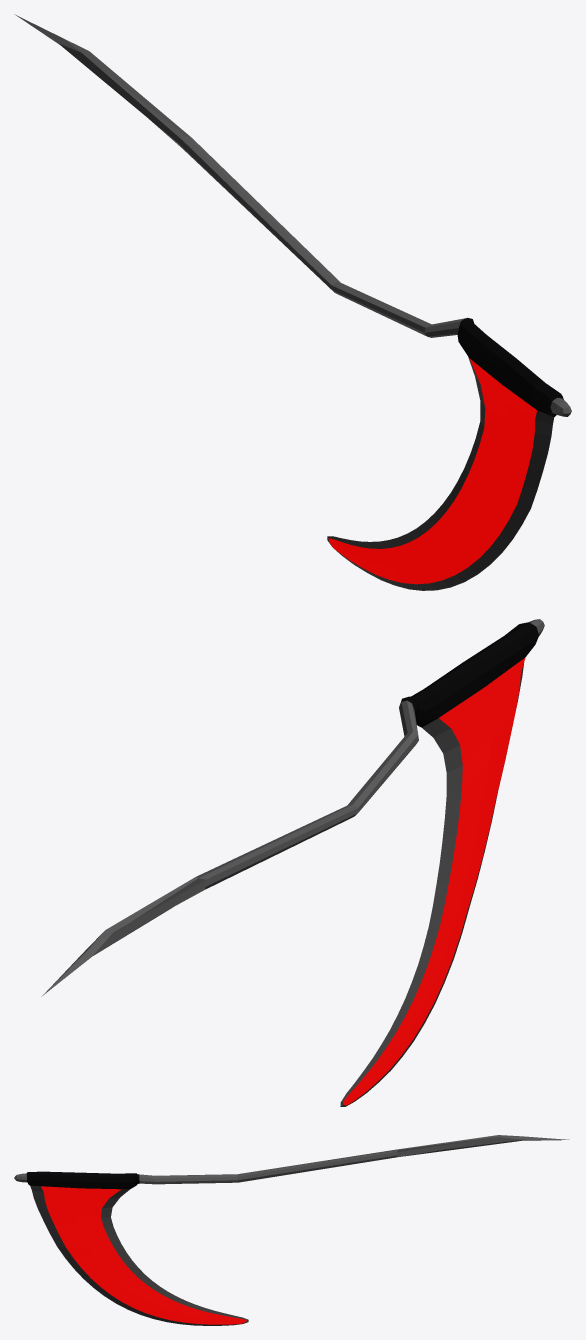
File: sickle.fbx
The picture shows the model from 3 angles, top to bottom: view 1: azimuth 30°, elevation 25°; view 2: azimuth 150°, elevation 25°; view 3: azimuth 270°, elevation 25°; orthographic projection. The views are drawn at different scales.
Parts seen in each view (by area): view 1: 立方体.001; view 2: 立方体.001; view 3: 立方体.001.
Boxes of the visible parts, x1,y1,x2,y2 form: 立方体.001: (14,14,571,590); 立方体.001: (41,619,544,1106); 立方体.001: (14,1135,569,1325).
Size of the model in its own units: 42.57 by 194 by 530.
